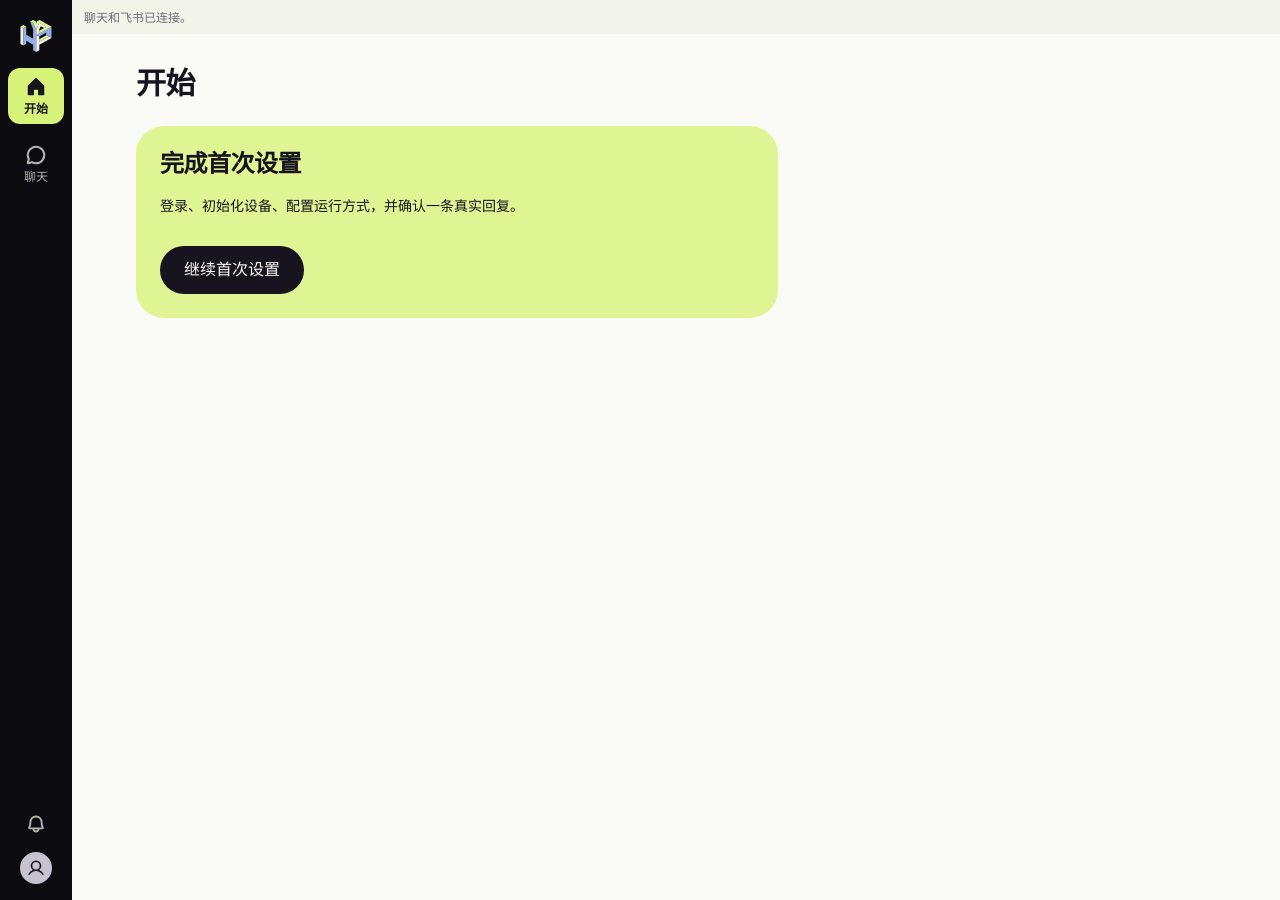
Test case: live composition: completion binds to this flow instance's own send request › a chat send+confirm before opening first-run never completes it; the flow starts at the account step and only its own send completes once
The width and height of the screenshot is (1280, 900).
Later steps or results of the test are not shown.
Click the button "聊天" at [36, 164], box left=8, top=136, right=64, bottom=192
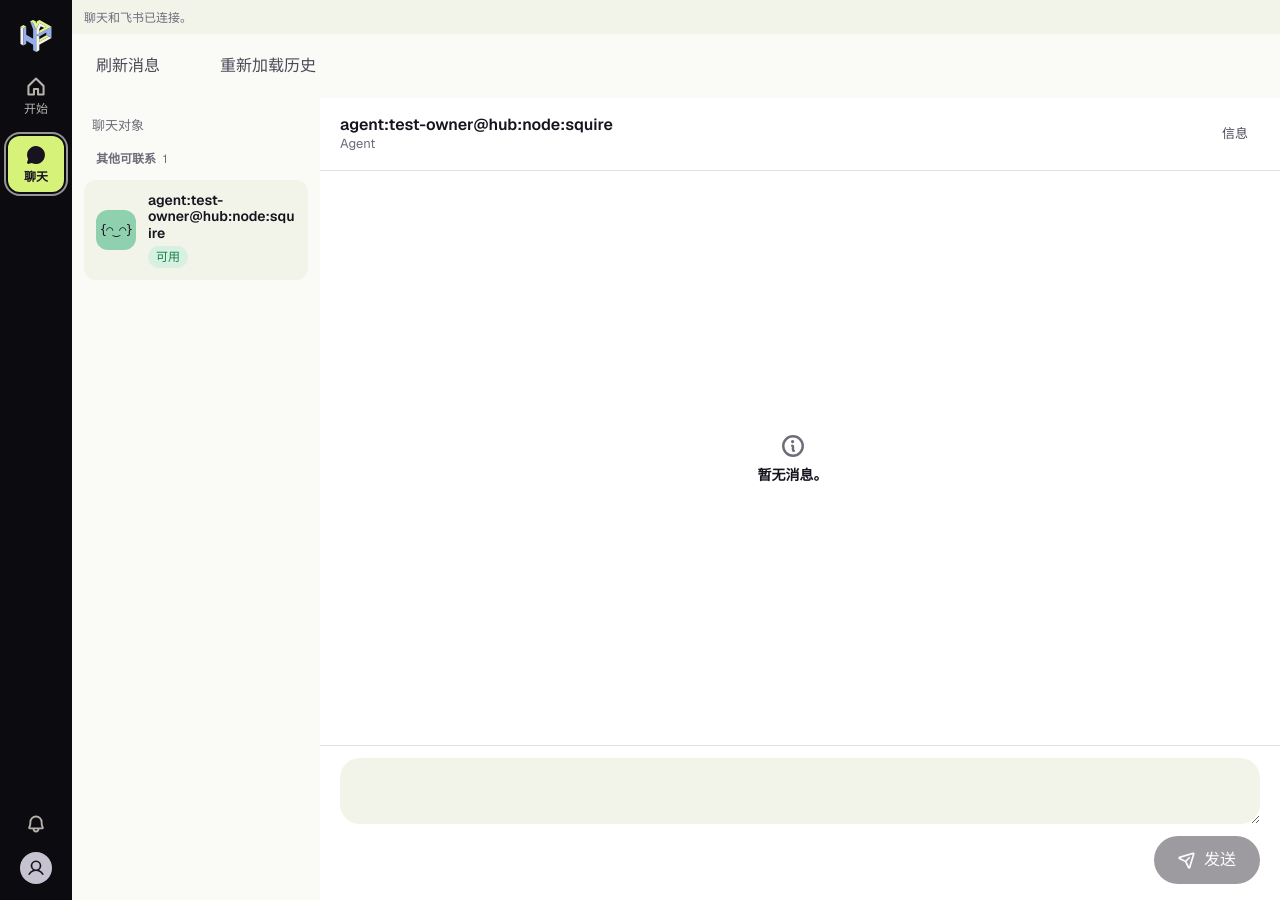
Type "早前在聊天页发出的消息" into the text box named "给 agent:test-owner@hub:node:squire 的消息" at [800, 791], box left=340, top=758, right=1260, bottom=824
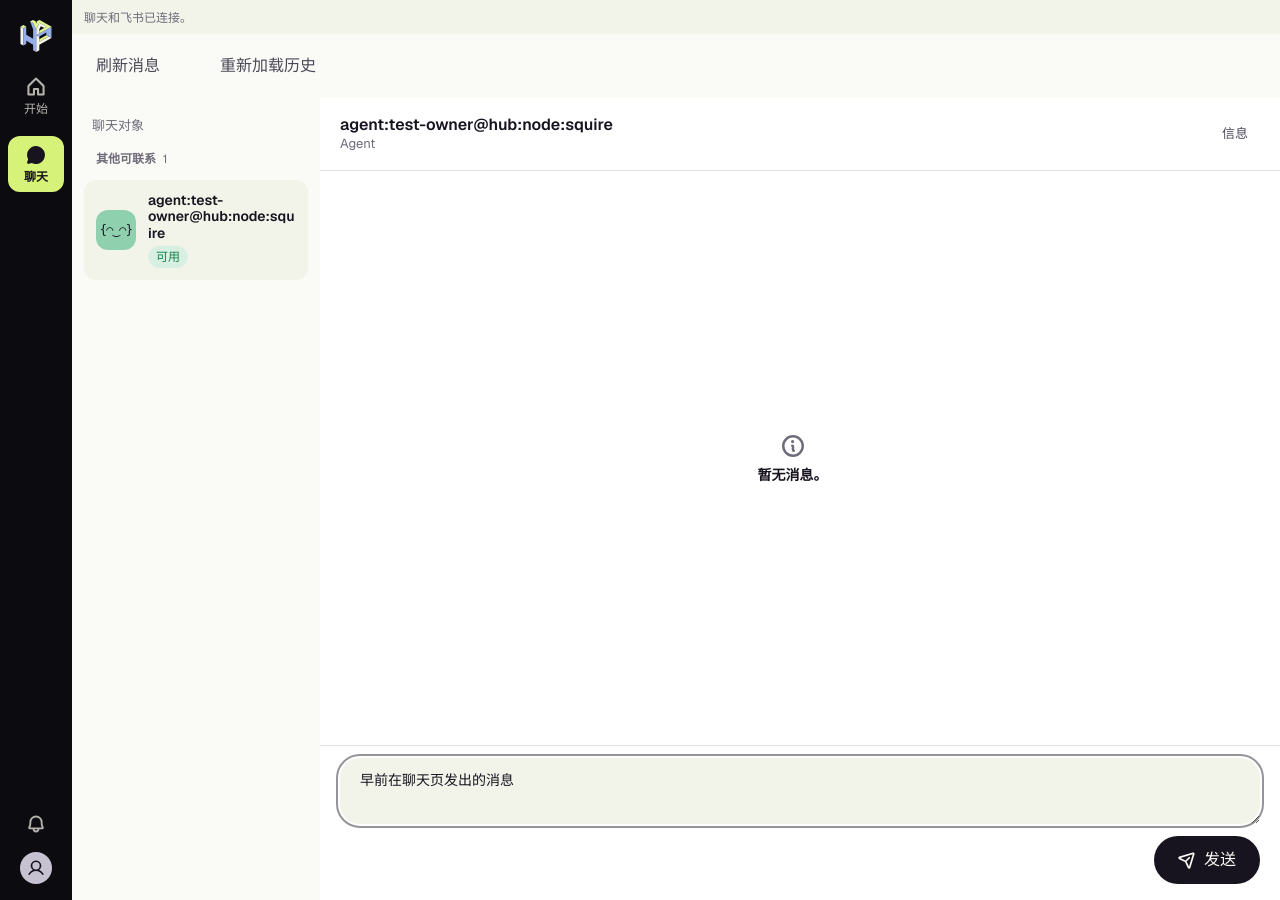
Click the button "发送" at [1207, 860], box left=1154, top=836, right=1260, bottom=884
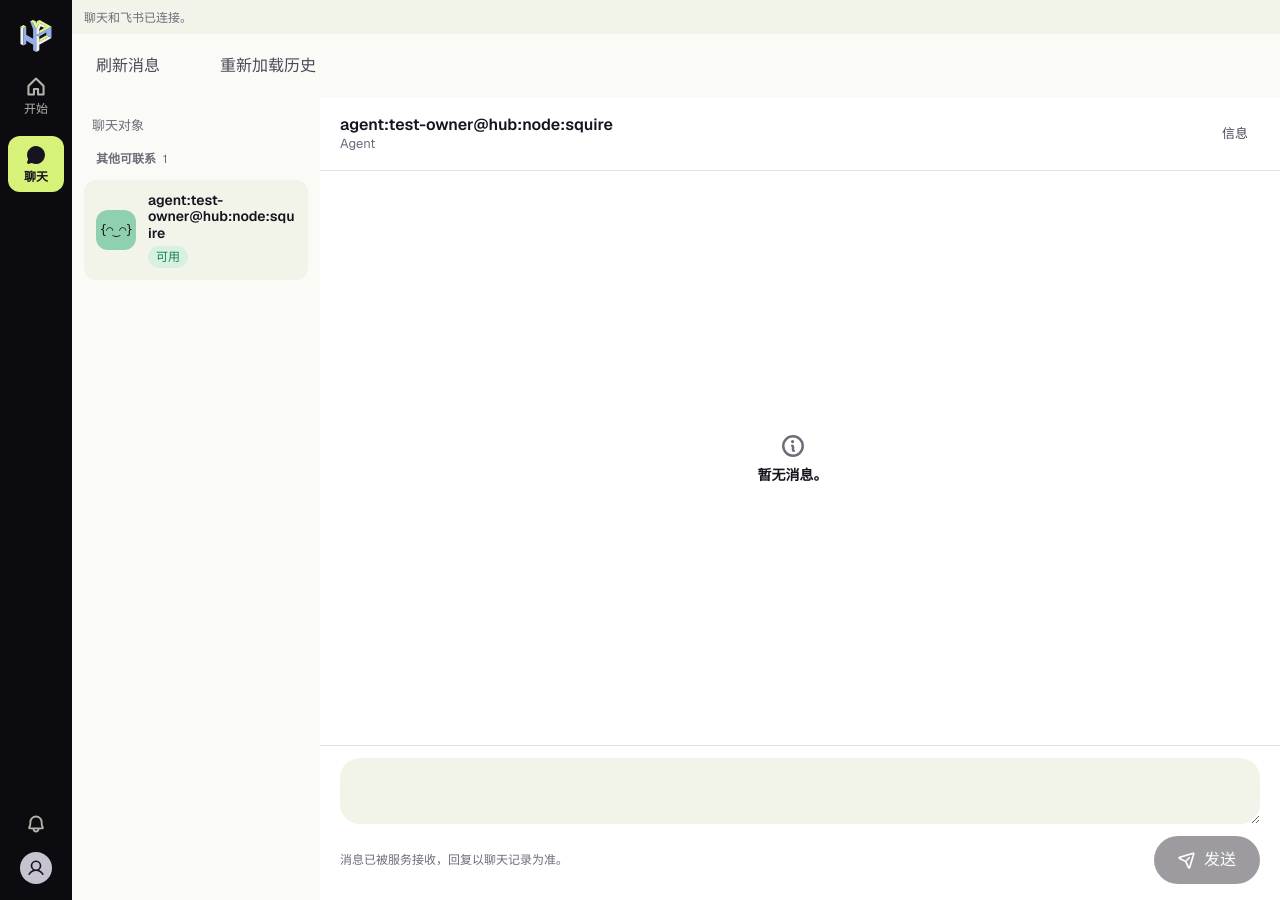
Expected: the text "消息已被服务接收，回复以聊天记录为准。" is shown, left=340, top=851, right=568, bottom=869
